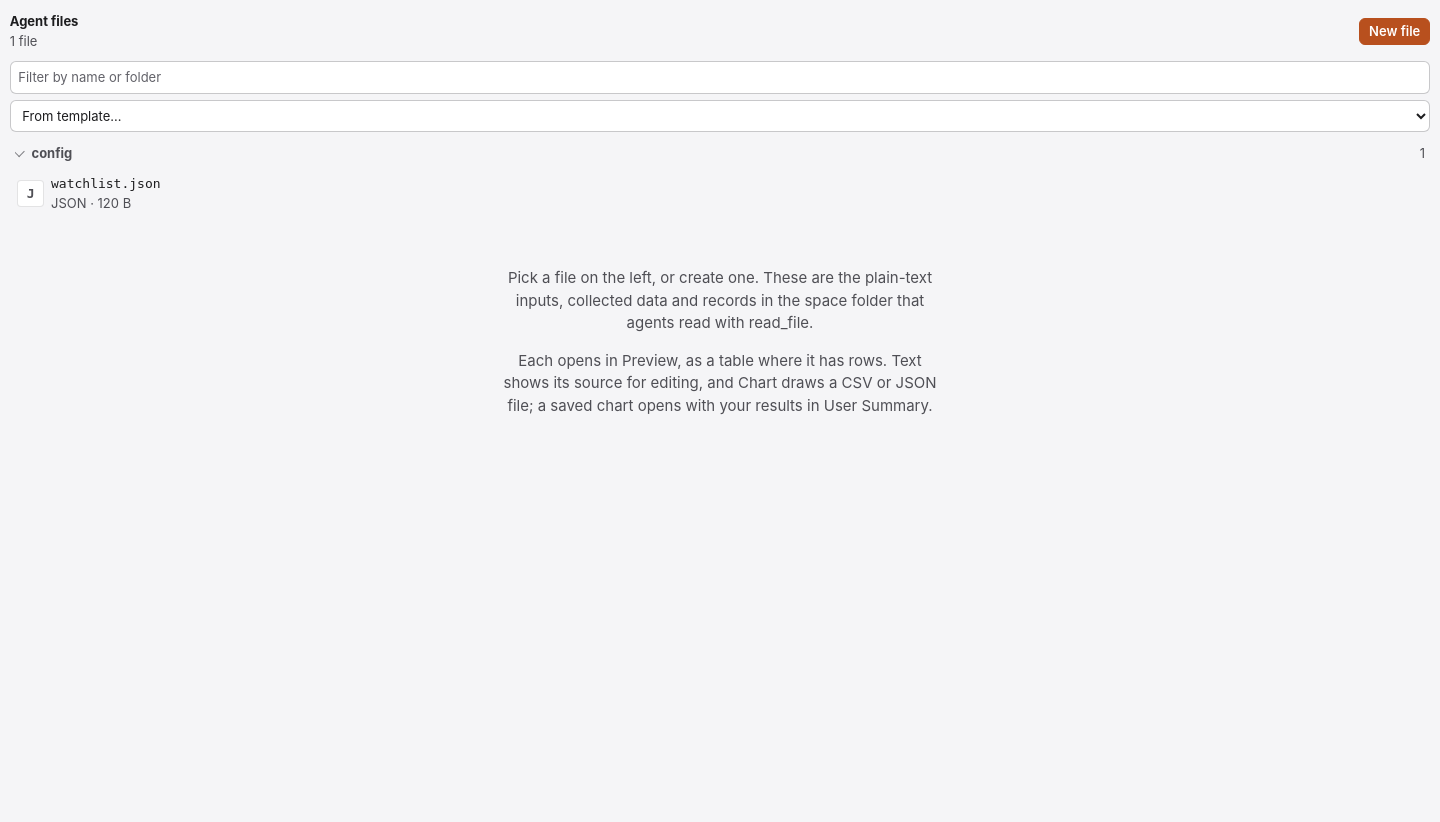
Test: when a file action fails › says when a new file's name is taken, and keeps the text
The width and height of the screenshot is (1440, 822).
Select "config/sources.json" in the dropdown named "Create from template" at (720, 116), box [10,100,1430,132]
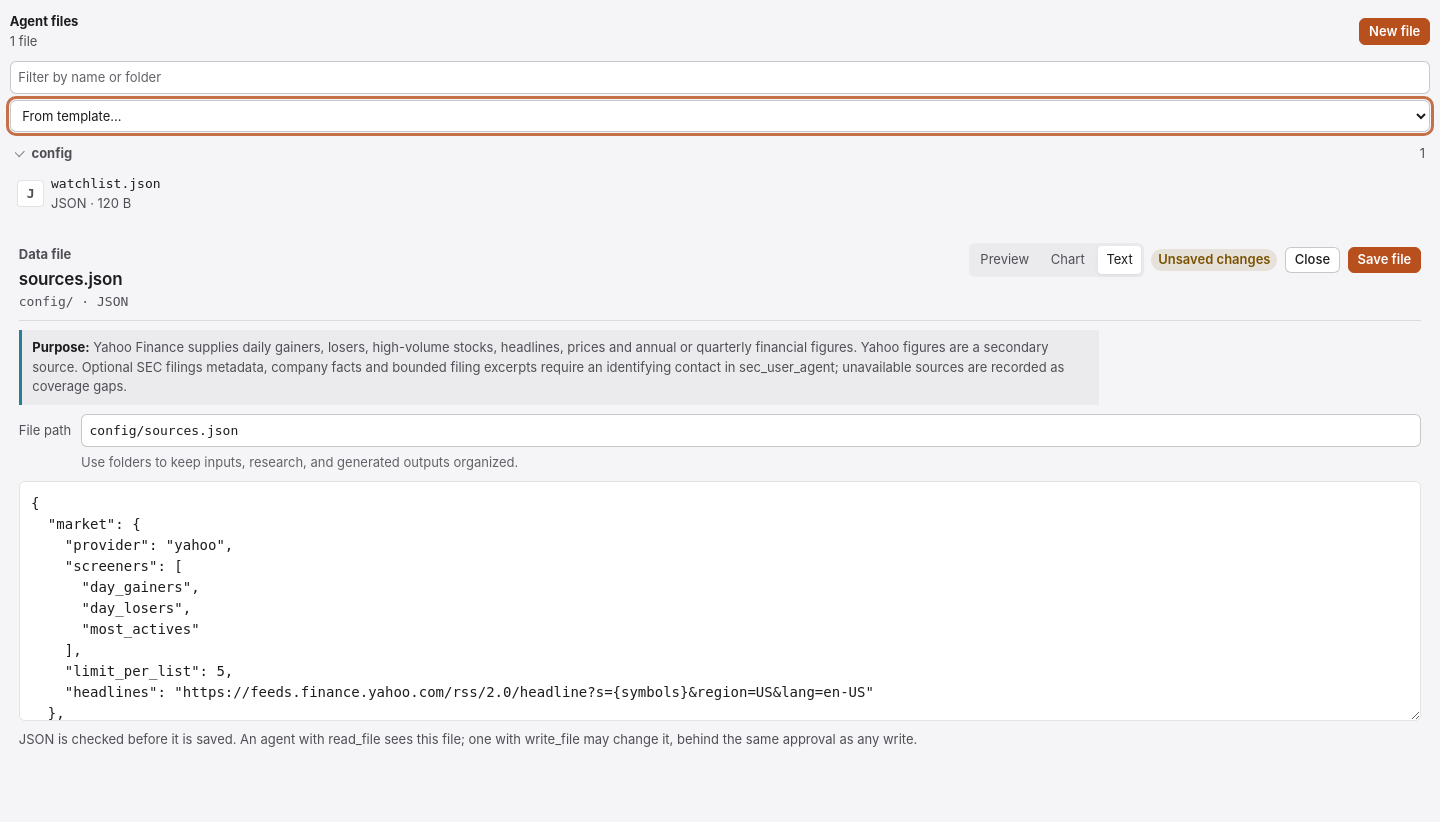
Click the button "Save file" at (1384, 260), box [1348,247,1421,273]
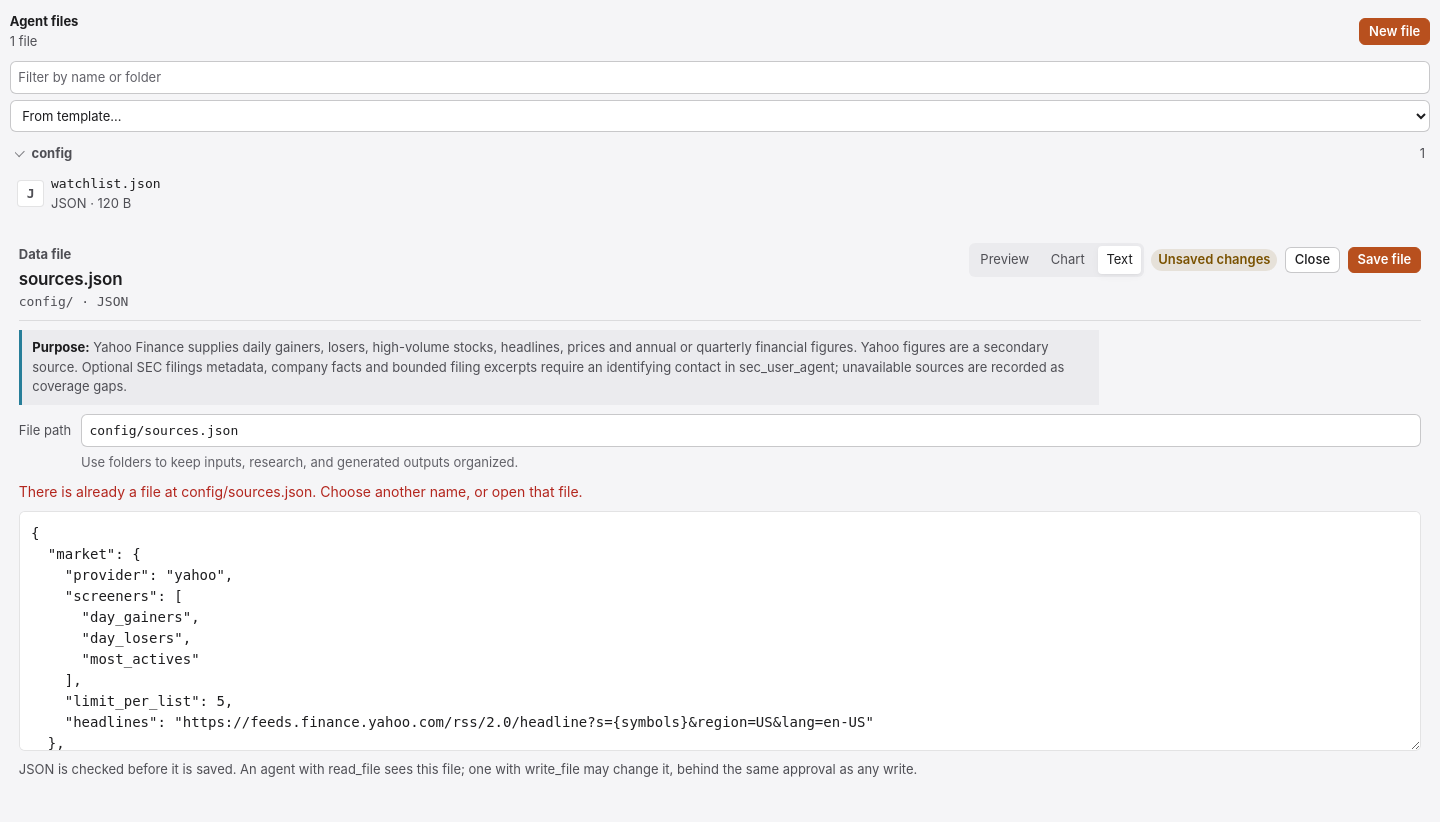
Expected: the message shows "There is already a file at config/sources.json", [19,483,583,500]
